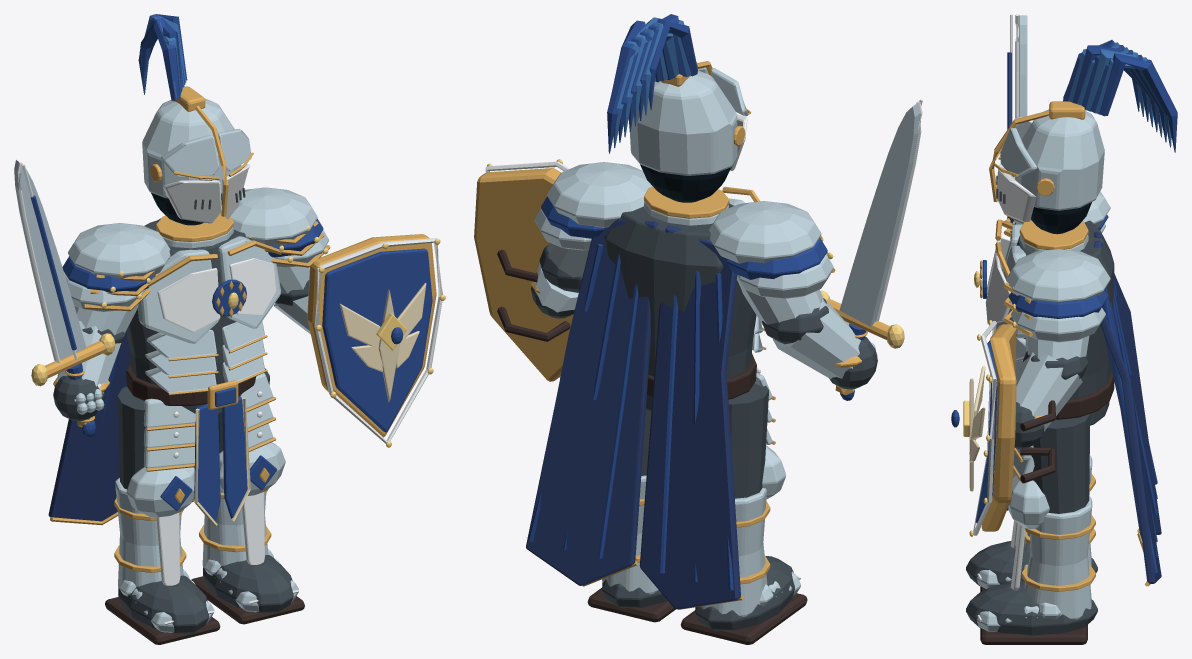
The model's file is knight.glb.
3 renders of one model, left to right at view 1: azimuth 30°, elevation 25°; view 2: azimuth 150°, elevation 25°; view 3: azimuth 270°, elevation 25°, orthographic. The views are drawn at different scales.
Parts seen in each view (by area): view 1: Knight — tempered silver mesh.002, Knight — royal cobalt mesh.007, Knight — tempered silver mesh.003, Knight — royal wool mesh, Knight — tempered silver mesh.005, Knight — royal cobalt mesh.002, Knight — tempered silver mesh, Knight — tempered silver mesh.004, Knight — blackened articulation mesh, Antique gold mesh.002, Knight — polished bevels mesh.002, Knight — tempered silver mesh.006 (+25 smaller); view 2: Knight — royal wool mesh, Knight — tempered silver mesh.003, Antique gold mesh.007, Knight — blackened articulation mesh.002, Knight — tempered silver mesh.005, Knight — tempered silver mesh.004, Knight — tempered silver mesh.006, Knight — royal cobalt mesh.002, Knight — blackened articulation mesh, Knight — royal cobalt mesh.005, Knight — tempered silver mesh, Knight — blue silk plume mesh (+15 smaller); view 3: Knight — tempered silver mesh.004, Knight — blackened articulation mesh.001, Knight — tempered silver mesh.005, Knight — tempered silver mesh.001, Knight — royal wool mesh, Antique gold mesh.007, Knight — royal cobalt mesh.005, Knight — blackened articulation mesh.002, Knight — blue silk plume mesh, Knight — royal cobalt mesh.002, Antique gold mesh.002, Knight — tempered silver mesh.002 (+22 smaller).
Part boxes in pixels (box(x1,y1,x2,y2)): Knight — tempered silver mesh.002: box(138, 227, 280, 468); Knight — royal cobalt mesh.007: box(322, 248, 432, 432); Knight — tempered silver mesh.003: box(57, 223, 170, 414); Knight — royal wool mesh: box(48, 218, 194, 521); Knight — tempered silver mesh.005: box(142, 98, 251, 198); Knight — royal cobalt mesh.002: box(101, 279, 247, 521); Knight — tempered silver mesh: box(115, 467, 214, 632); Knight — tempered silver mesh.004: box(231, 187, 328, 334); Knight — blackened articulation mesh: box(117, 386, 208, 634); Antique gold mesh.002: box(50, 212, 281, 525); Knight — polished bevels mesh.002: box(157, 258, 276, 458); Knight — tempered silver mesh.006: box(14, 160, 86, 360); Knight — royal wool mesh: box(526, 218, 740, 609); Knight — tempered silver mesh.003: box(709, 201, 877, 378); Antique gold mesh.007: box(474, 168, 573, 381); Knight — blackened articulation mesh.002: box(604, 203, 756, 410); Knight — tempered silver mesh.005: box(629, 67, 748, 175); Knight — tempered silver mesh.004: box(534, 162, 652, 312); Knight — tempered silver mesh.006: box(839, 103, 919, 326); Knight — royal cobalt mesh.002: box(528, 244, 733, 590); Knight — blackened articulation mesh: box(695, 383, 794, 630); Knight — royal cobalt mesh.005: box(607, 14, 697, 153); Knight — tempered silver mesh: box(701, 445, 800, 616); Knight — blue silk plume mesh: box(613, 17, 691, 148); Knight — tempered silver mesh.004: box(1006, 249, 1110, 431); Knight — blackened articulation mesh.001: box(966, 414, 1097, 635); Knight — tempered silver mesh.005: box(1000, 109, 1104, 210); Knight — tempered silver mesh.001: box(976, 473, 1092, 631); Knight — royal wool mesh: box(1093, 224, 1161, 583); Antique gold mesh.007: box(981, 324, 1016, 531); Knight — royal cobalt mesh.005: box(1063, 40, 1177, 152); Knight — blackened articulation mesh.002: box(1016, 220, 1114, 425); Knight — blue silk plume mesh: box(1068, 42, 1171, 147); Knight — royal cobalt mesh.002: box(982, 260, 1157, 573); Antique gold mesh.002: box(980, 219, 1150, 586); Knight — tempered silver mesh.002: box(996, 224, 1088, 475).
Size of the model in its own units: 2 by 2.63 by 0.9482.
